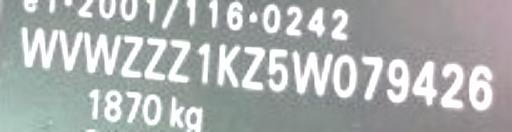letter: (290, 46, 336, 99), (17, 20, 61, 71), (82, 29, 122, 77), (327, 49, 361, 102), (237, 37, 269, 93), (264, 42, 294, 100), (409, 56, 441, 109), (464, 61, 496, 112), (384, 54, 412, 110), (438, 57, 466, 113), (164, 34, 194, 86), (212, 39, 242, 91), (55, 24, 87, 72), (120, 24, 146, 82), (358, 49, 386, 102), (140, 30, 166, 83), (190, 32, 214, 85)
